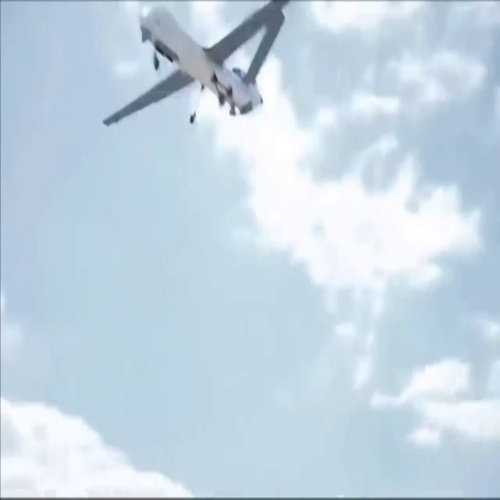uav: (99, 1, 286, 128)
